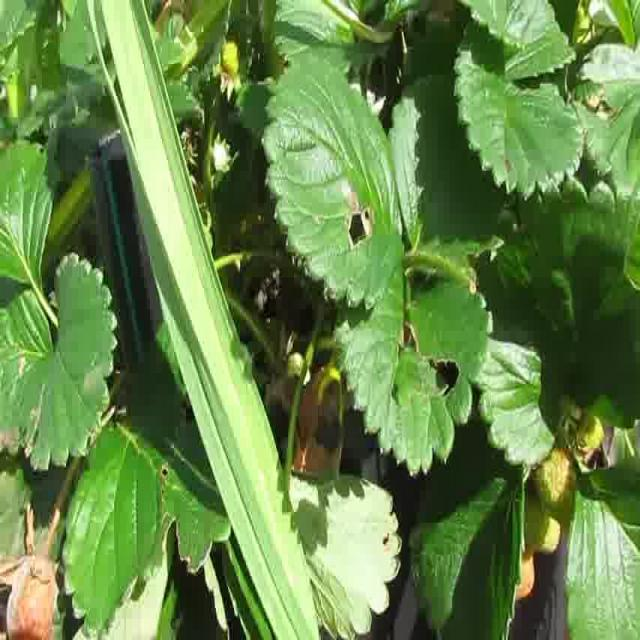Fruta sana: (523, 491, 563, 559), (538, 453, 574, 512), (506, 542, 541, 598)
Moho gris: (5, 540, 61, 640)
